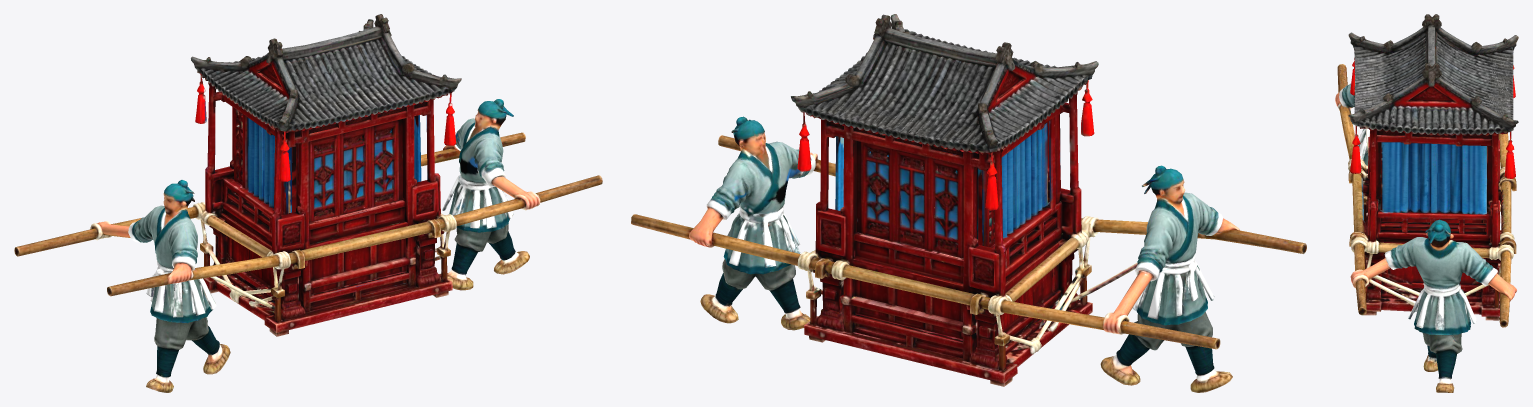
The model's file is qm_sedan.glb.
3 renders of one model, left to right at view 1: azimuth 30°, elevation 25°; view 2: azimuth 150°, elevation 25°; view 3: azimuth 270°, elevation 25°, orthographic. The views are drawn at different scales.
Visible parts, largest first — view 1: qm_sedan; view 2: qm_sedan; view 3: qm_sedan.
Part boxes in pixels (bbox=[...]): qm_sedan: bbox=[14, 14, 602, 392]; qm_sedan: bbox=[631, 14, 1306, 392]; qm_sedan: bbox=[1335, 14, 1518, 392].
Size of the model in its own units: 4.01 by 2.2 by 1.35.
Materials: 1 (1 with a texture image).
